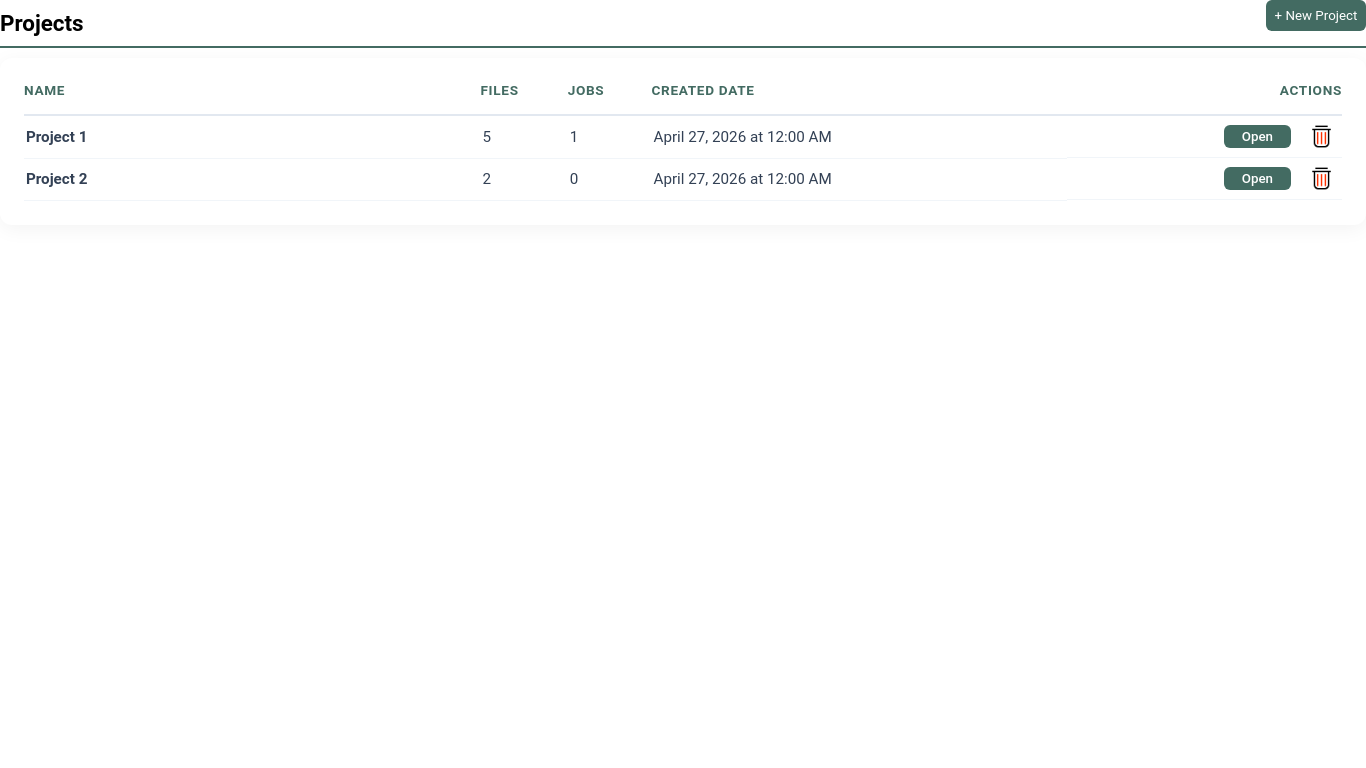
Test: ProjectList Component › should open the "Create" modal and add a new project locally
This screenshot has width=1366, height=768.
Click the button "+ New Project".
click(1316, 16)  # box [1266,0,1365,31]
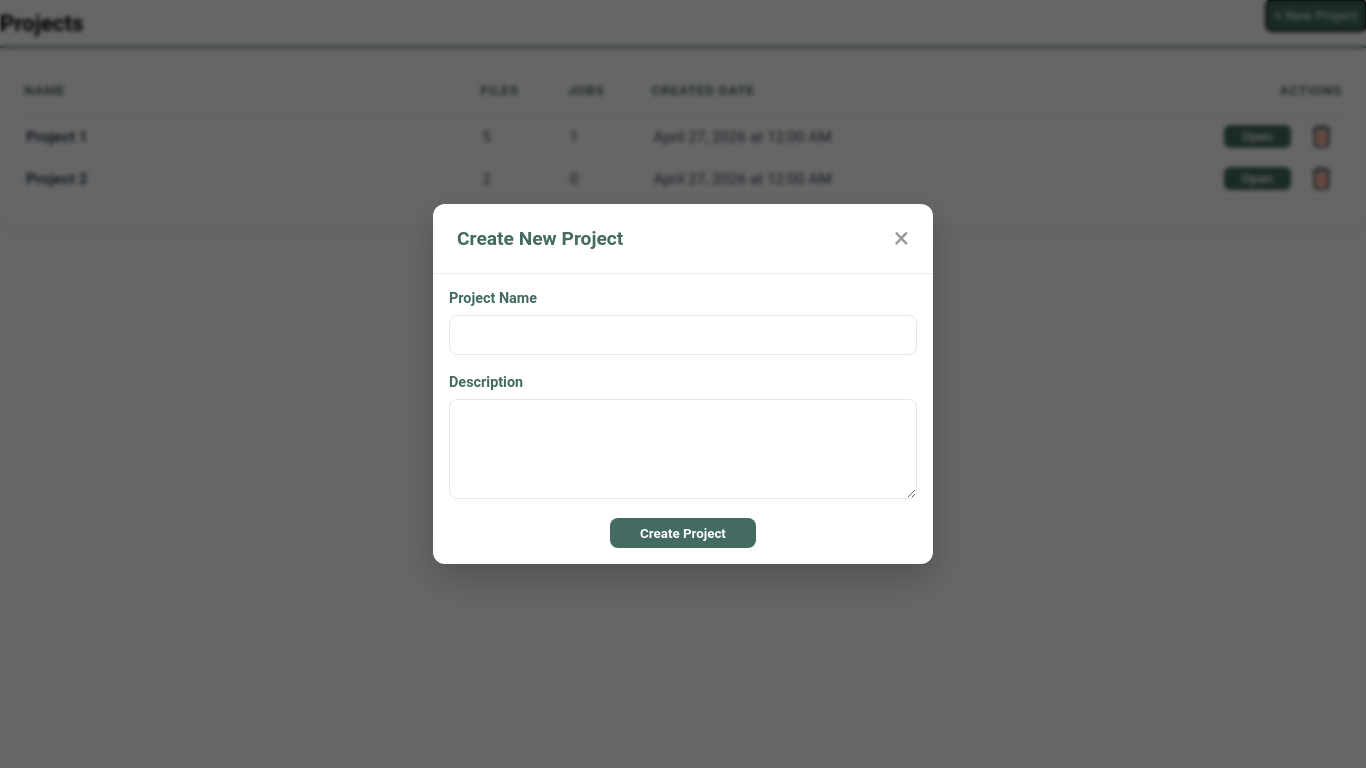
# This will now work because of the ID/htmlFor fix in the component
Type "New Test Project" into the field labelled "Project Name".
click(683, 335); type("New Test Project")  # box [449,315,917,355]
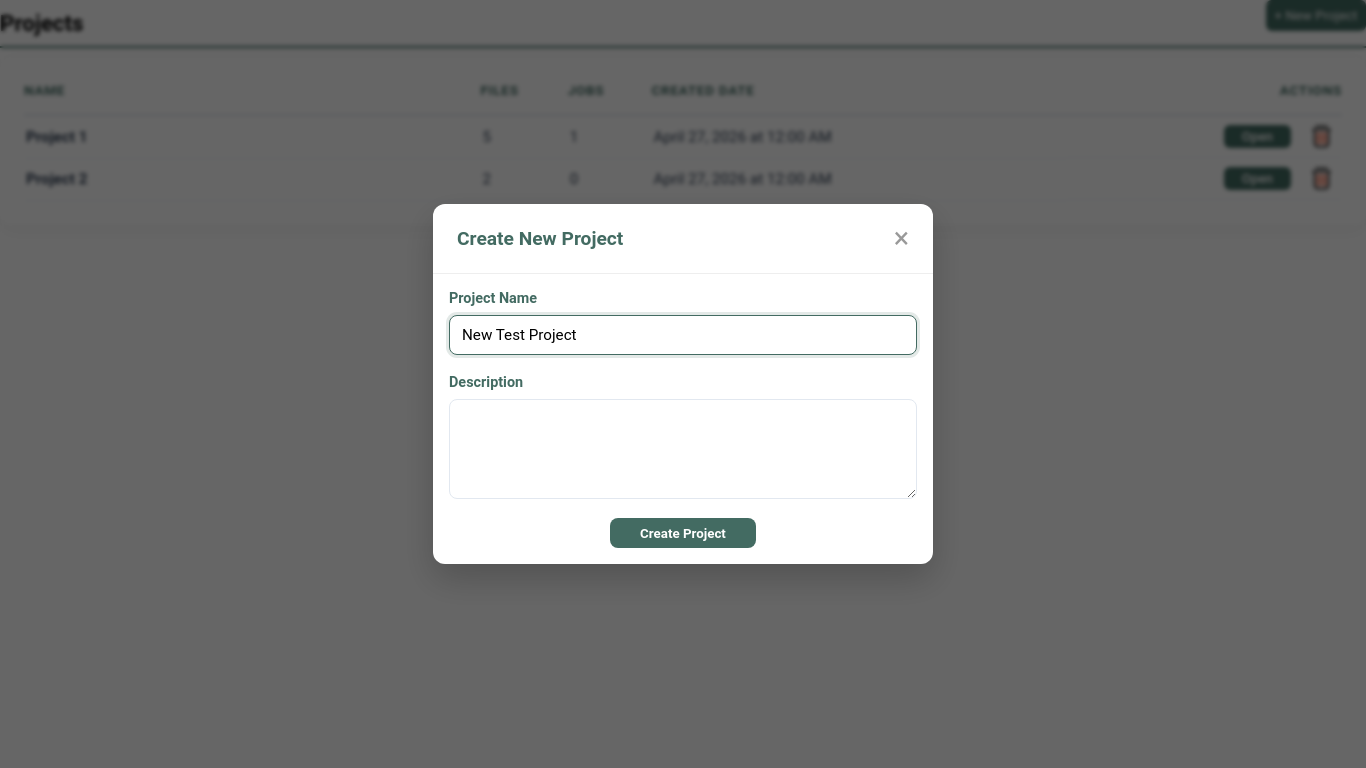
Click the button "Create Project".
click(683, 533)  # box [610,518,756,548]
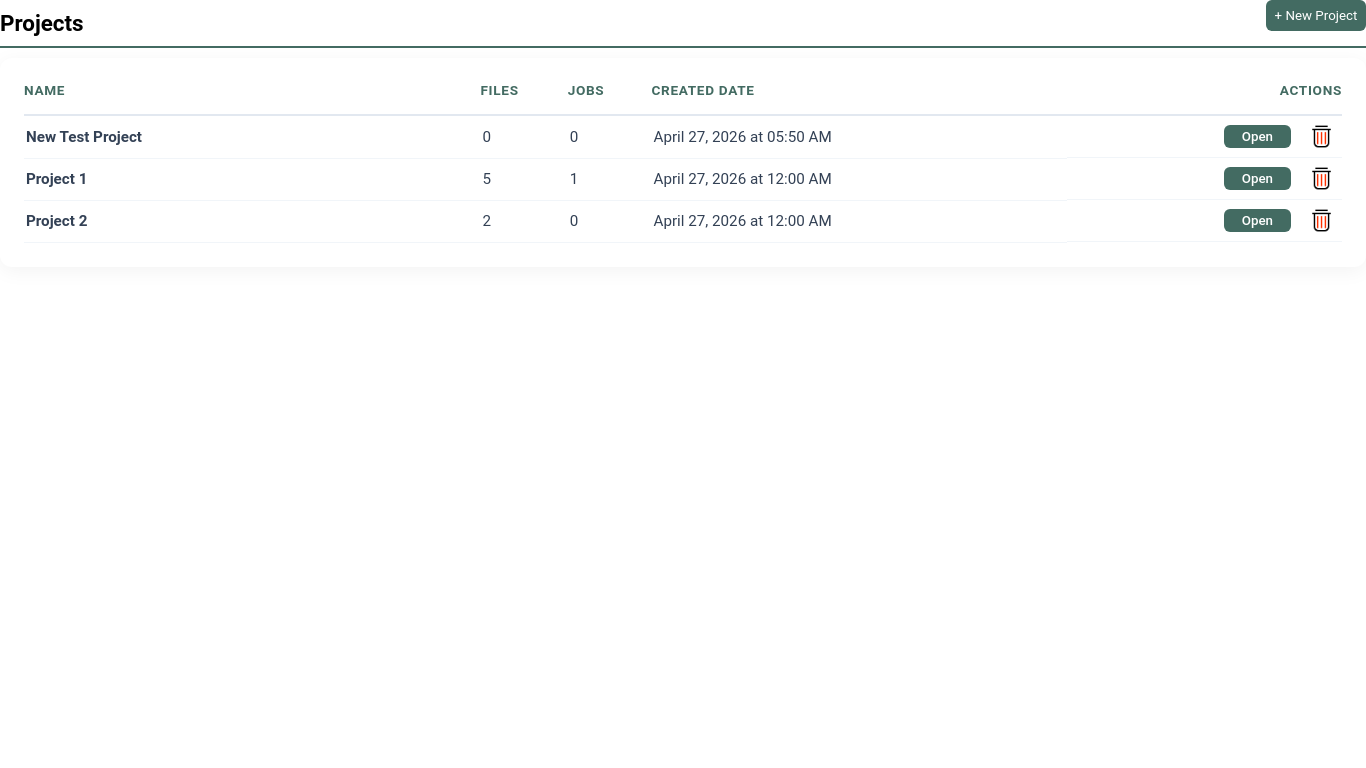
Check: the text "New Test Project" is shown, box [24,115,480,158]
